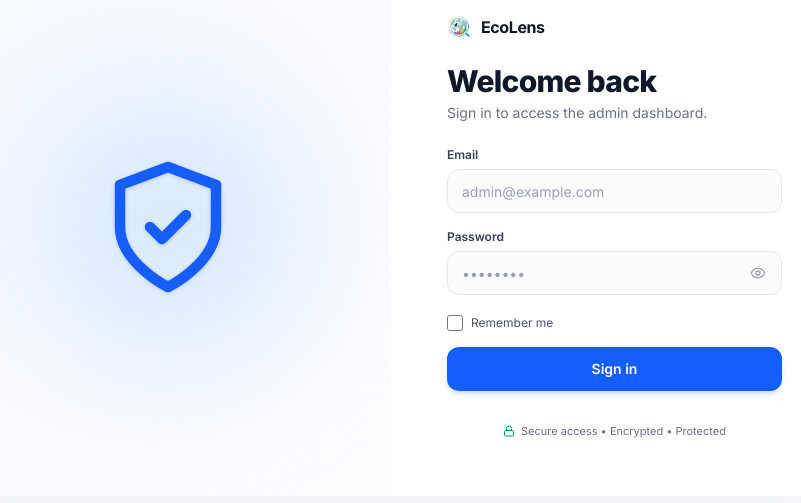
AdminLoginPage › validates required fields and shows error message
Click the button "Sign in" at x=614, y=369, box left=447, top=347, right=782, bottom=391
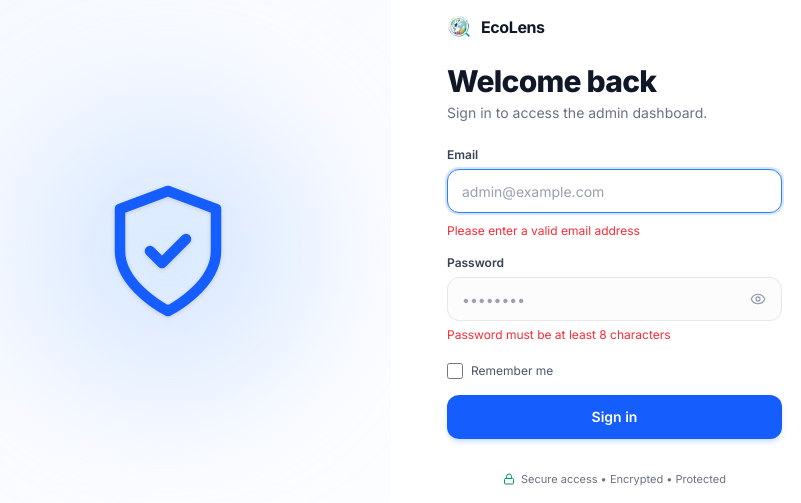
expect the text "Please enter a valid email address" is shown: met, box left=447, top=223, right=640, bottom=238
